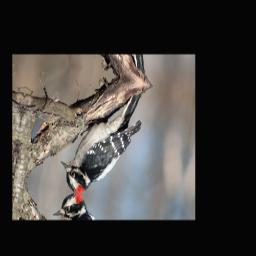Woodpecker: (54, 73, 147, 207)
